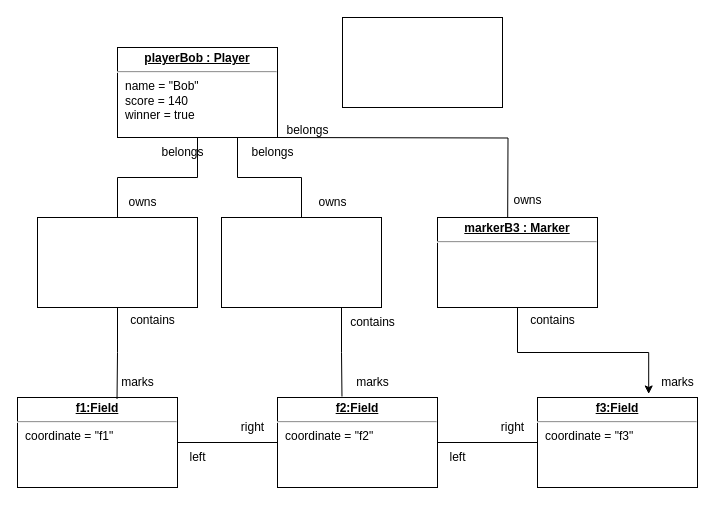
The diagram is 725 pixels wide and 505 high, and some of its shapes have lost their labels. The shapes that lost their labels are listed below. From the top down, each one's centre as x and y in pixels, then its label:
point (422, 62): playerAlice : Player name = "Alice" score = 250 winner = false
point (117, 262): markerB : Marker
point (301, 262): markerB2 : Marker
